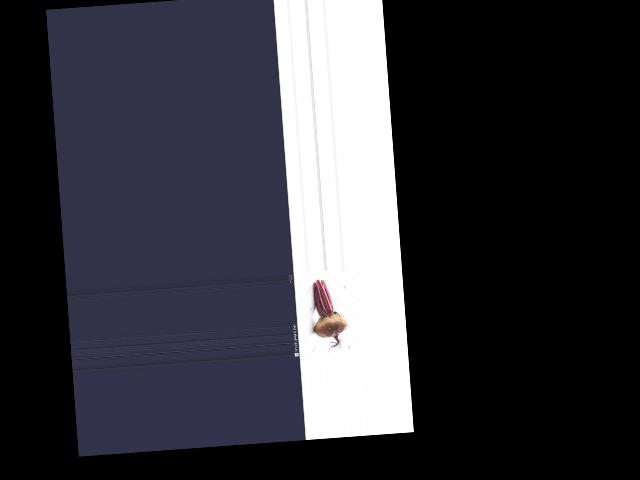beet: (310, 277, 349, 353)
